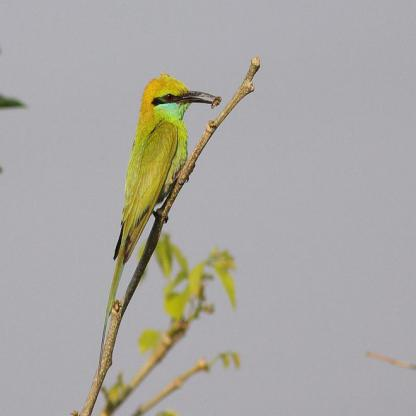Burung: (95, 71, 221, 385)
